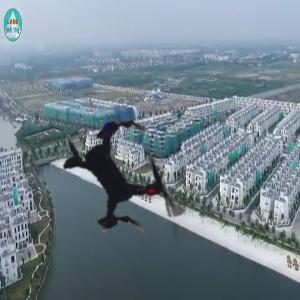drone: (20, 72, 226, 278)
